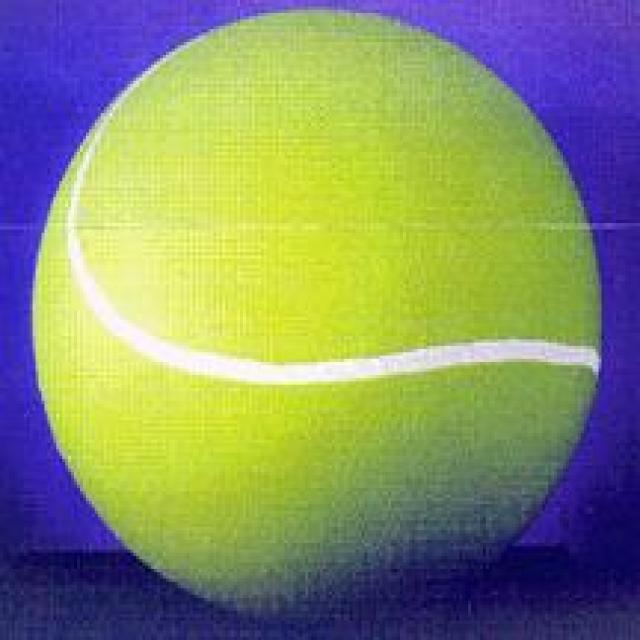Tennis Ball: (30, 10, 604, 617)
